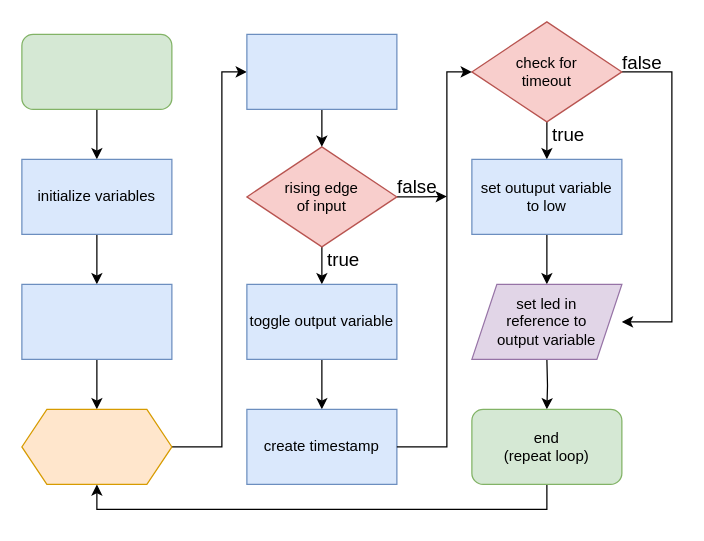
The diagram is 704 pixels wide and 541 high, and some of its shapes have lost their labels. The centre of each missing label's shape, as x and y in pixels:
test: pixel 96 71
updating memory & sample input: pixel 321 71
voidloop(): pixel 96 446
voidsetup() defining pin modes: pixel 96 321
